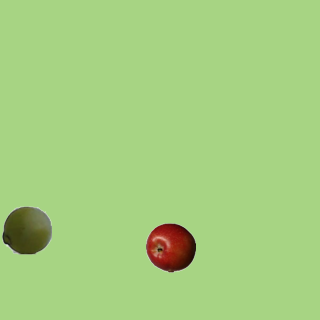Apple Braeburn: (145, 222, 195, 272)
Grape White 4: (1, 204, 51, 254)
